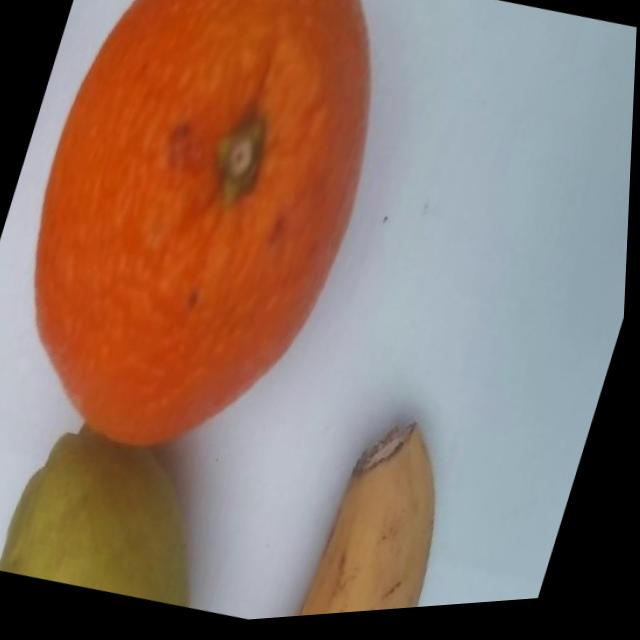Banana: (298, 409, 478, 621)
Orange: (0, 0, 424, 497)
